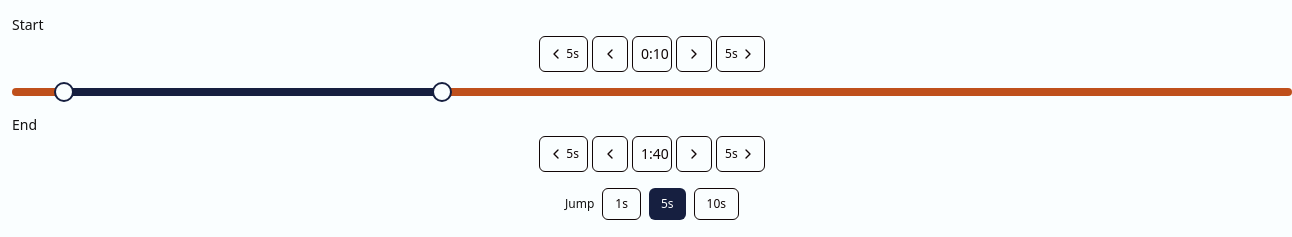
TrimRangeSlider › discards a typed start timestamp when Escape is pressed
Click the button with test id "trim-start-time-display": (652, 54) [632,36,672,72]
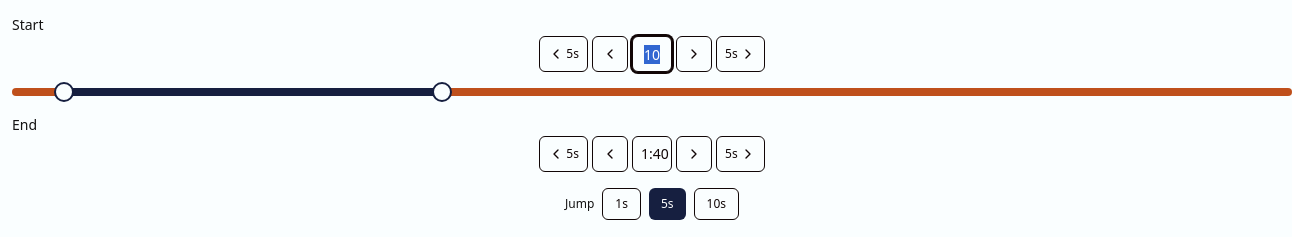
Replace the text in the field with test id "trim-start-time-input" with "1:30": (652, 54) [632,36,672,72]
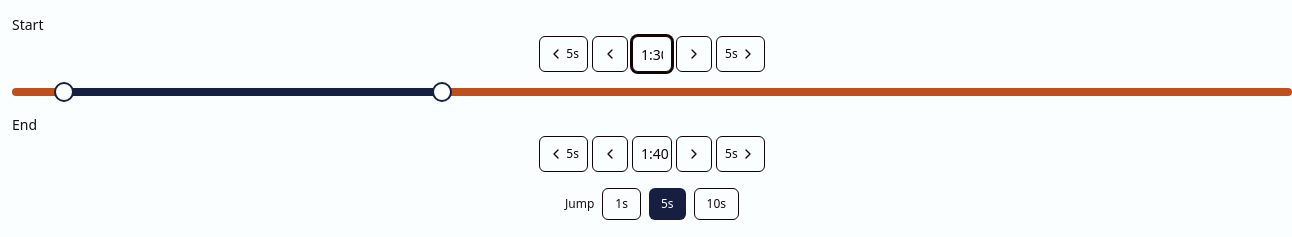
Press Escape in the field with test id "trim-start-time-input", box [632,36,672,72]
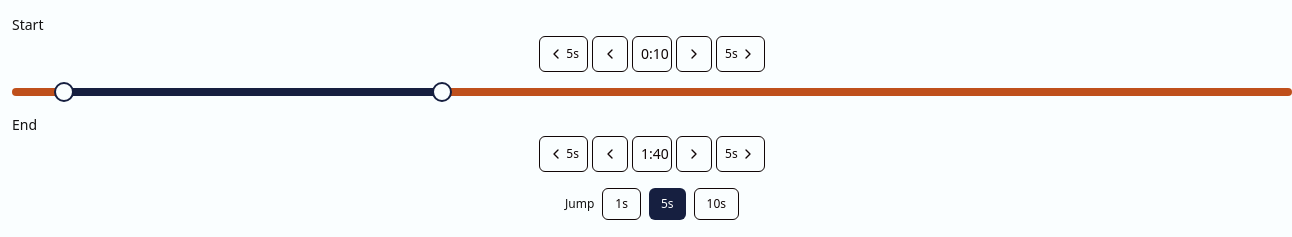
Check: the button with test id "trim-start-time-display" reads "0:10", box [632,36,672,72]
